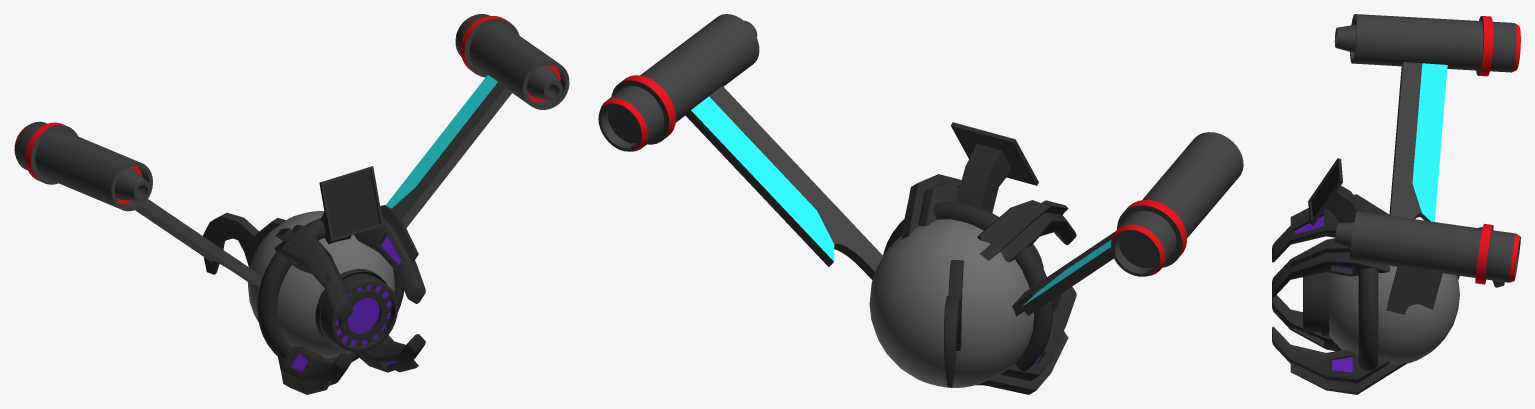
Rendered from Drone3.fbx.
3 views of the same model, side by side, from view 1: azimuth 30°, elevation 25°; view 2: azimuth 150°, elevation 25°; view 3: azimuth 270°, elevation 25° (orthographic). The views are drawn at different scales.
Visible parts, largest first — view 1: drone; view 2: drone; view 3: drone.
Boxes of the visible parts, <box> form: drone: <box>14,14,569,394</box>; drone: <box>598,14,1243,394</box>; drone: <box>1272,14,1520,394</box>.
Bounding box in the file's own units: 7.69 × 3.95 × 3.46.
